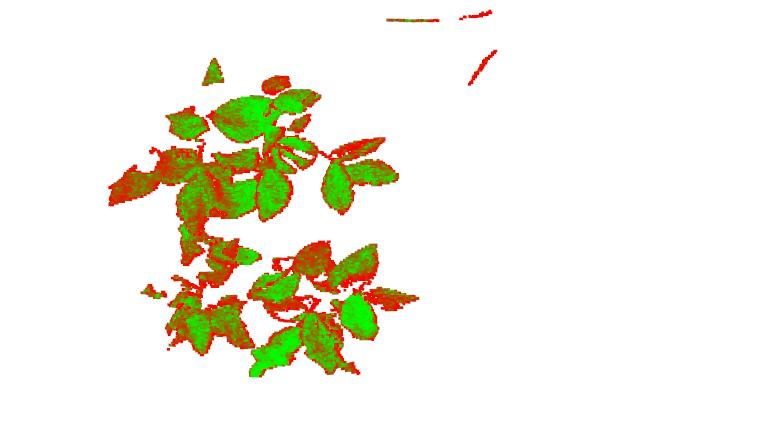mungbean: (215, 73, 399, 224), (106, 59, 238, 263), (247, 240, 420, 378), (140, 238, 255, 358)
